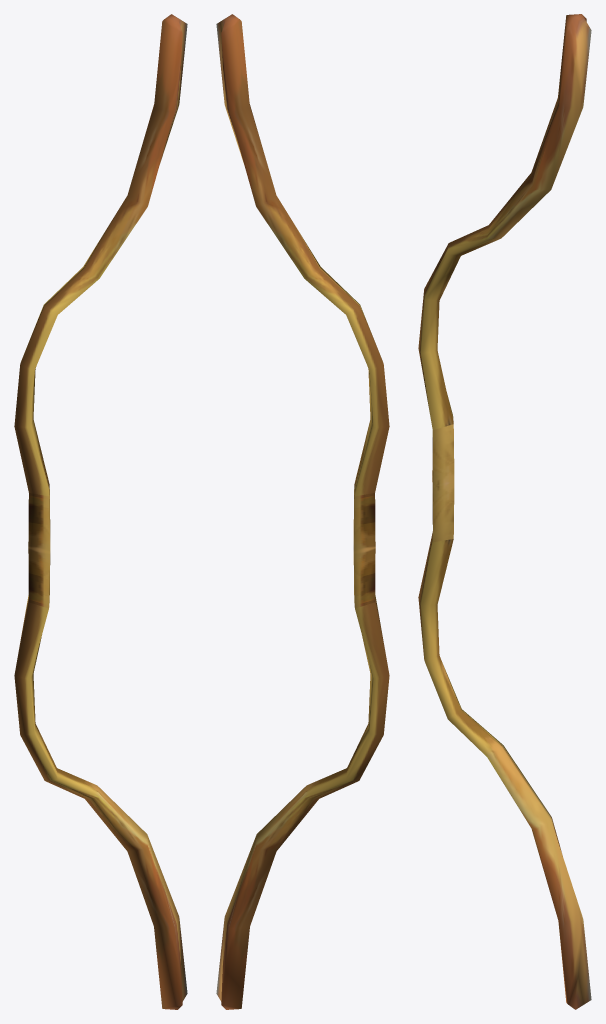
The model's file is Archer_1_0_Bow.FBX.
3 renders of one model, left to right at view 1: azimuth 30°, elevation 25°; view 2: azimuth 150°, elevation 25°; view 3: azimuth 330°, elevation 25°, orthographic.
Parts seen in each view (by area): view 1: Archer_1_0_Bow; view 2: Archer_1_0_Bow; view 3: Archer_1_0_Bow.
Boxes of the visible parts, x1,y1,x2,y2 form: Archer_1_0_Bow: [14, 14, 187, 1009]; Archer_1_0_Bow: [216, 14, 389, 1009]; Archer_1_0_Bow: [418, 14, 591, 1009].
Bounding box in the file's own units: 25.63 × 140 × 5.31.
